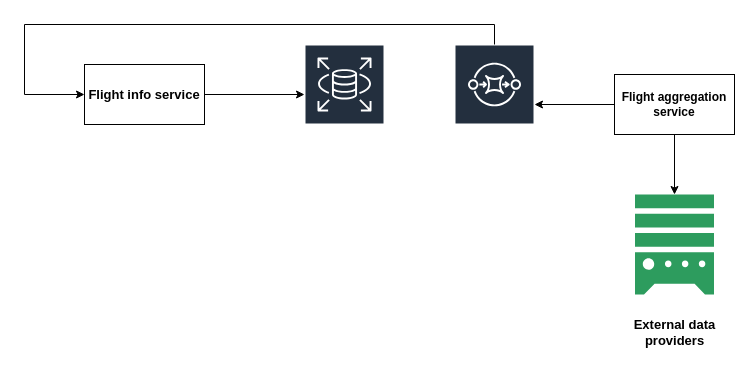
The diagram is 752 pixels wide and 367 high, and some of its shapes have lost their labels. The shapes that lost their labels are listed below. From the top down, each one's centre as x and y in pixels, then its label:
At pixel 344 94: "Flights DB".
At pixel 494 104: "Flight queue (SQS)".
